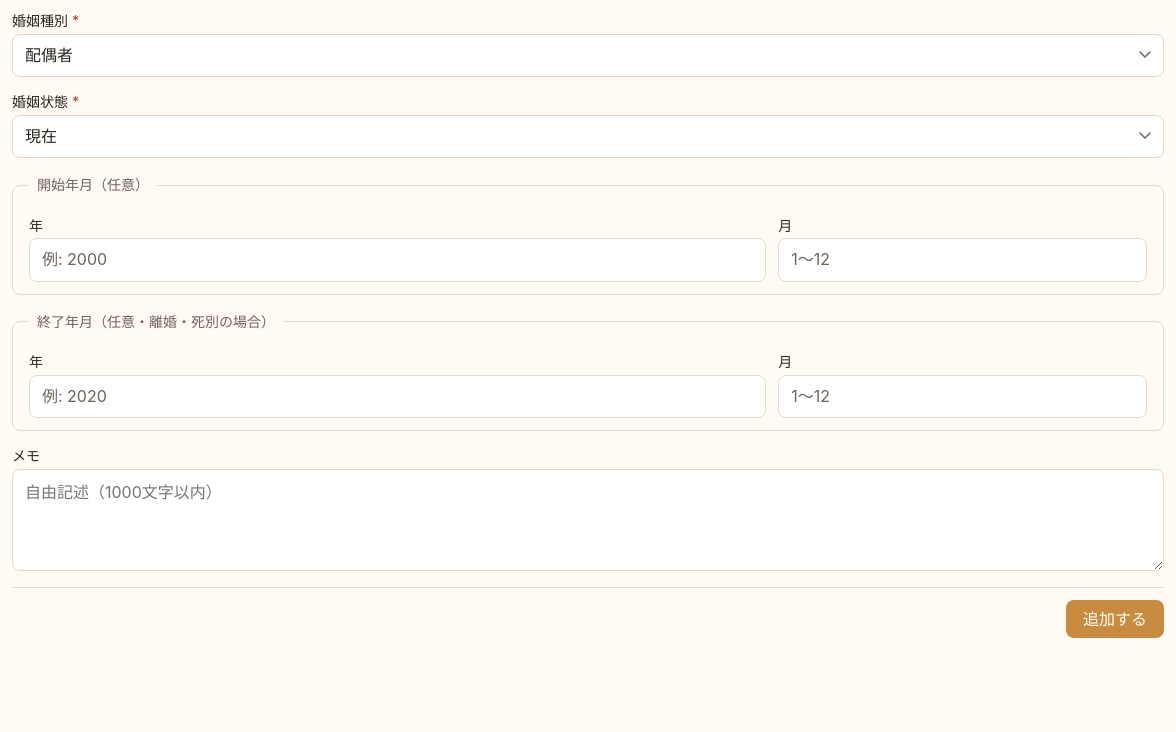
RelationForm (kind=marriage) › バリデーションエラー › startYear が 1000 未満 → バリデーションエラーが表示される
In the number field labelled "年" below "開始年月（任意）": {"x": 398, "y": 260} [30,239,765,281], type "999"
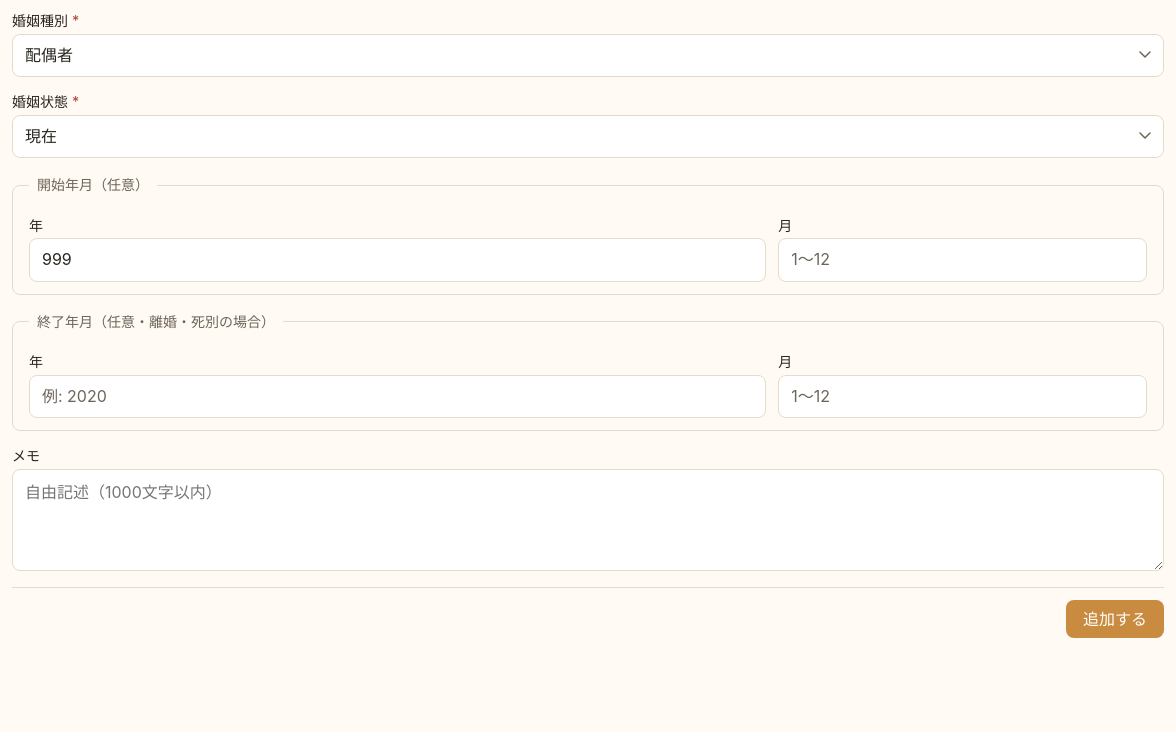
Click the button "追加する": {"x": 1115, "y": 619} [1066,600,1164,638]
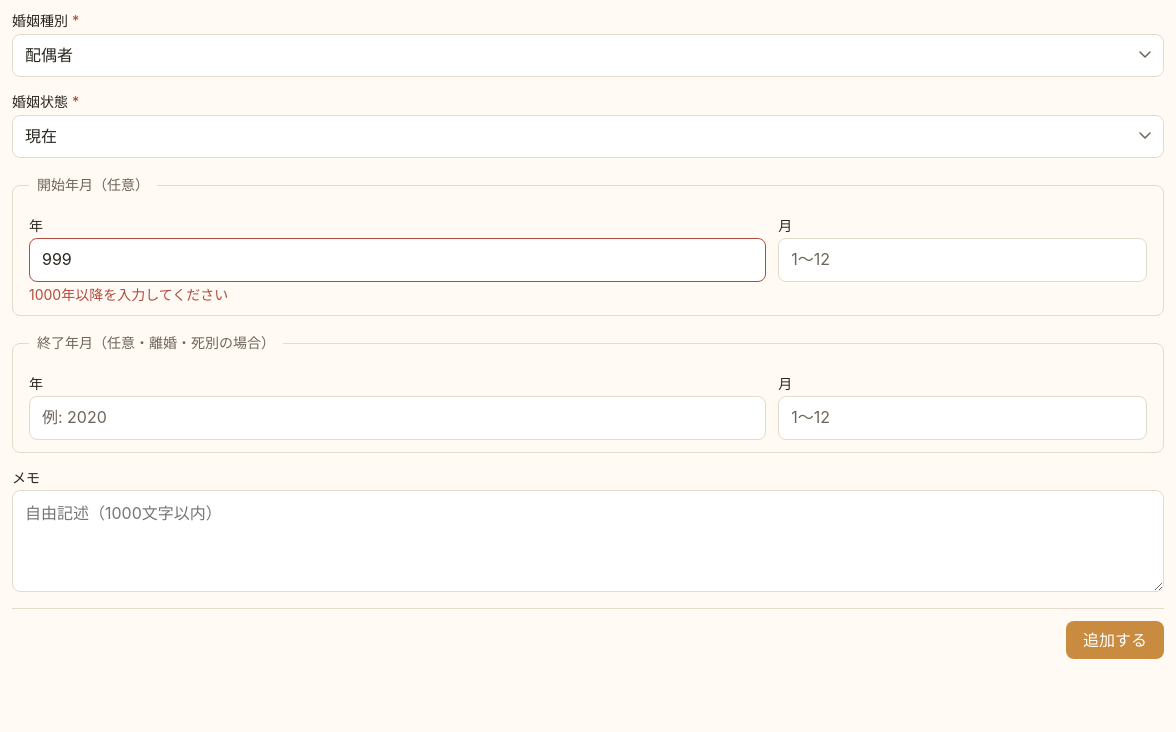
Result: the text "1000年以降を入力してください" is shown at [29,286,228,303]
